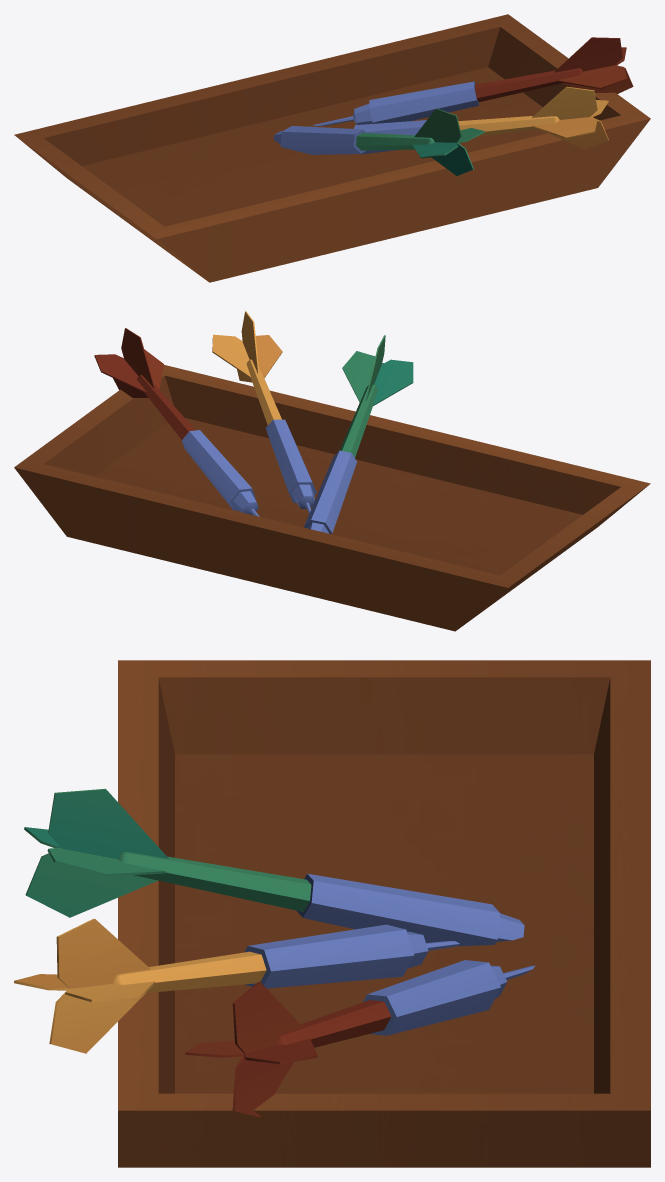
File: MSH_PlatoDardos.fbx
The picture shows the model from 3 angles, top to bottom: view 1: azimuth 30°, elevation 25°; view 2: azimuth 150°, elevation 25°; view 3: azimuth 270°, elevation 25°; orthographic projection. The views are drawn at different scales.
Visible parts, largest first — view 1: MSH_PlatoDardos; view 2: MSH_PlatoDardos; view 3: MSH_PlatoDardos.
Boxes of the visible parts, x1,y1,x2,y2 form: MSH_PlatoDardos: (14, 14, 650, 282); MSH_PlatoDardos: (14, 311, 650, 631); MSH_PlatoDardos: (14, 660, 650, 1167).
Size of the model in its own units: 31.25 by 7.18 by 17.99.
